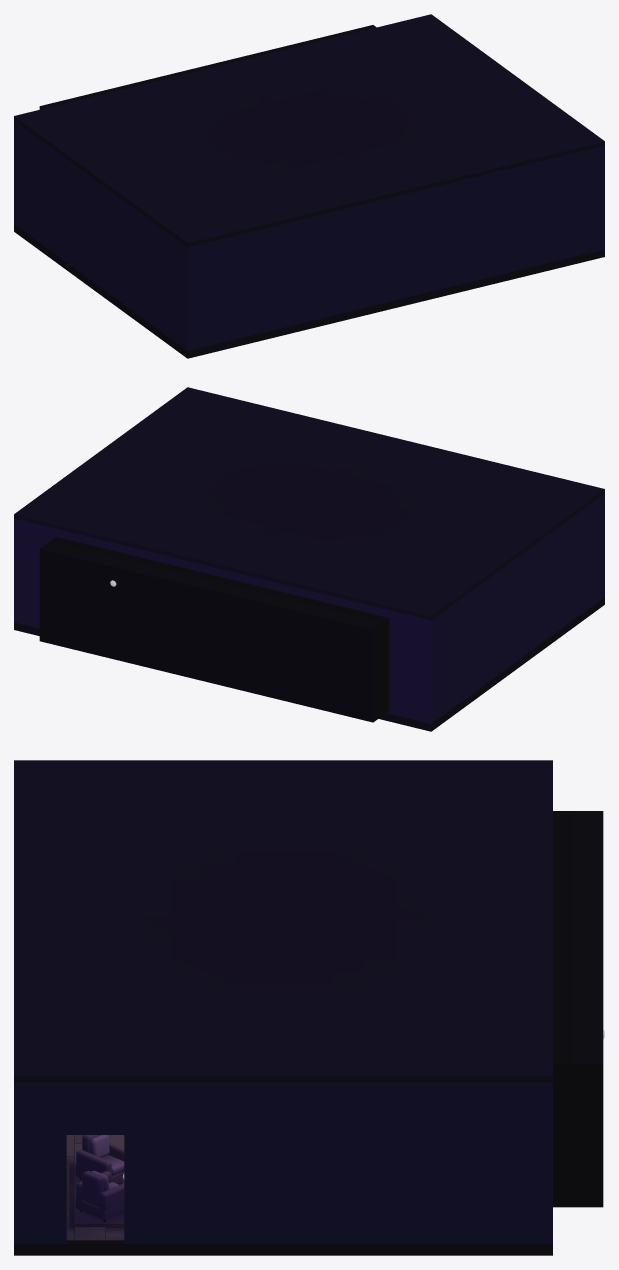
Rendered from mor-sehir.8f35a810c577.glb.
3 views of the same model, one above another, from view 1: azimuth 30°, elevation 25°; view 2: azimuth 150°, elevation 25°; view 3: azimuth 270°, elevation 25° (orthographic). The views are drawn at different scales.
Parts seen in each view (by area): view 1: ceiling, wall_S, wall_W, floor, wall_N; view 2: ceiling, wall_N, wall_W, floor; view 3: ceiling, wall_E, wall_N, floor, room, wall_S.
Boxes of the visible parts, x1=… form: ceiling: x1=14, y1=14, x2=604, y2=247; wall_S: x1=185, y1=145, x2=604, y2=350; wall_W: x1=16, y1=122, x2=184, y2=348; floor: x1=14, y1=224, x2=604, y2=358; wall_N: x1=14, y1=25, x2=376, y2=225; ceiling: x1=14, y1=387, x2=604, y2=620; wall_N: x1=14, y1=518, x2=433, y2=723; wall_W: x1=434, y1=495, x2=602, y2=721; floor: x1=14, y1=597, x2=604, y2=731; ceiling: x1=14, y1=760, x2=552, y2=1082; wall_E: x1=22, y1=1083, x2=544, y2=1243; wall_N: x1=544, y1=811, x2=604, y2=1243; floor: x1=14, y1=1135, x2=552, y2=1255; room: x1=66, y1=1135, x2=124, y2=1226; wall_S: x1=14, y1=1083, x2=22, y2=1243.
Size of the model in its own units: 14.32 by 3.79 by 11.31.
